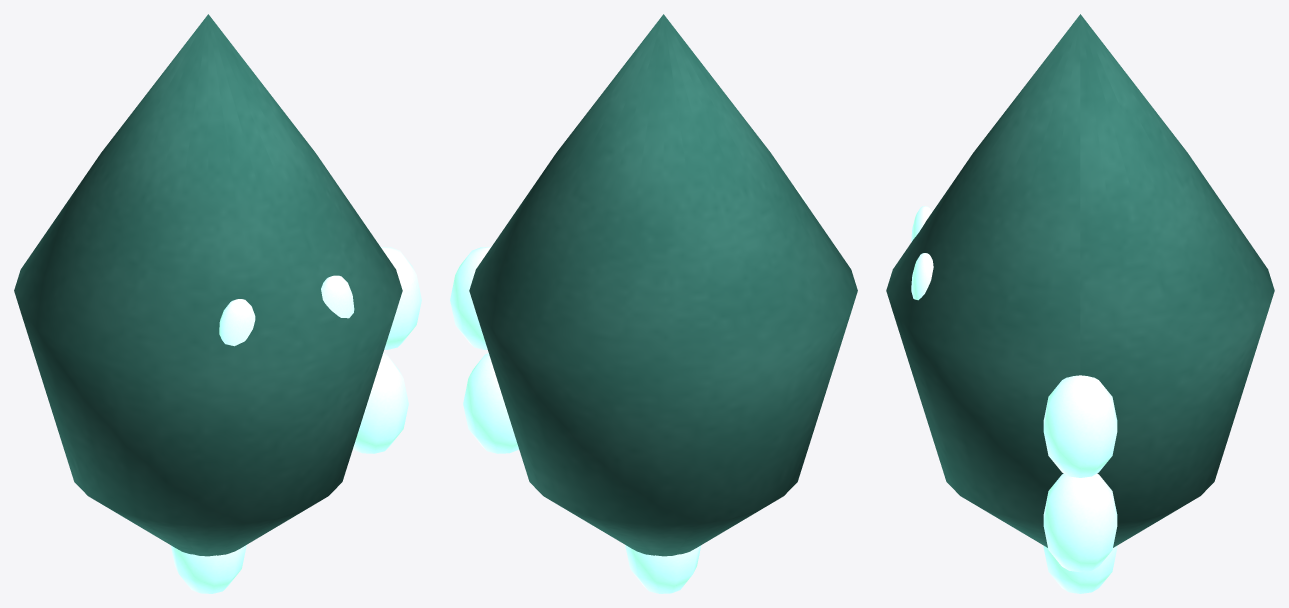
File: wisp.glb
3 views of the same model, side by side, from view 1: azimuth 30°, elevation 25°; view 2: azimuth 150°, elevation 25°; view 3: azimuth 270°, elevation 25° (orthographic).
Parts seen in each view (by area): view 1: wisp; view 2: wisp; view 3: wisp.
Boxes of the visible parts, box(x1,y1,x2,y2) form: wisp: box(14, 14, 421, 593); wisp: box(450, 14, 857, 593); wisp: box(886, 14, 1274, 593).
Size of the model in its own units: 0.7837 by 1.15 by 0.7.
Materials: 2 (2 with a texture image).
